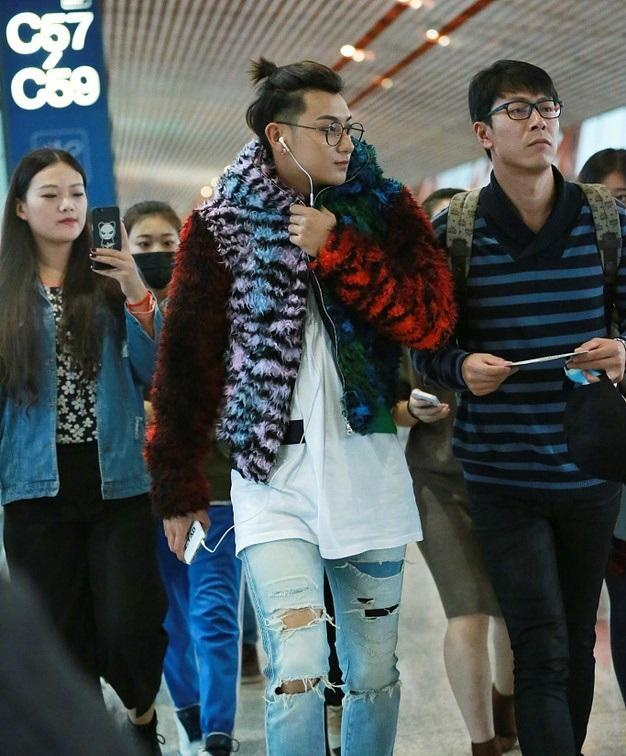Mask: (129, 230, 189, 291)
